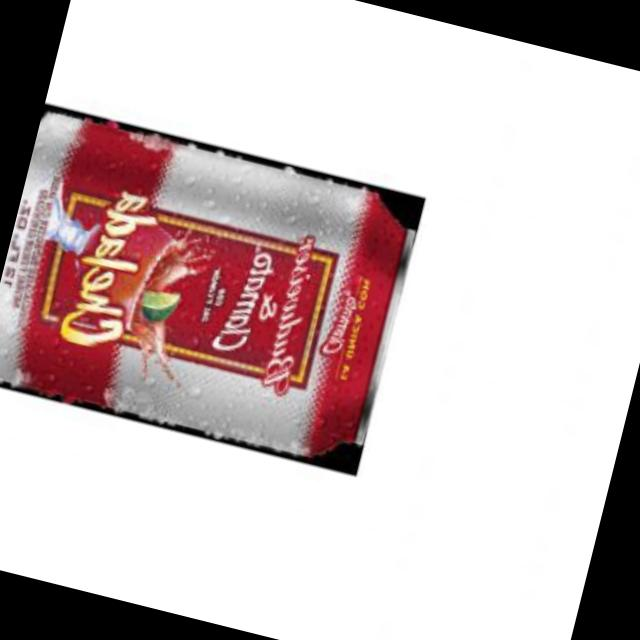metal: (0, 109, 422, 471)
